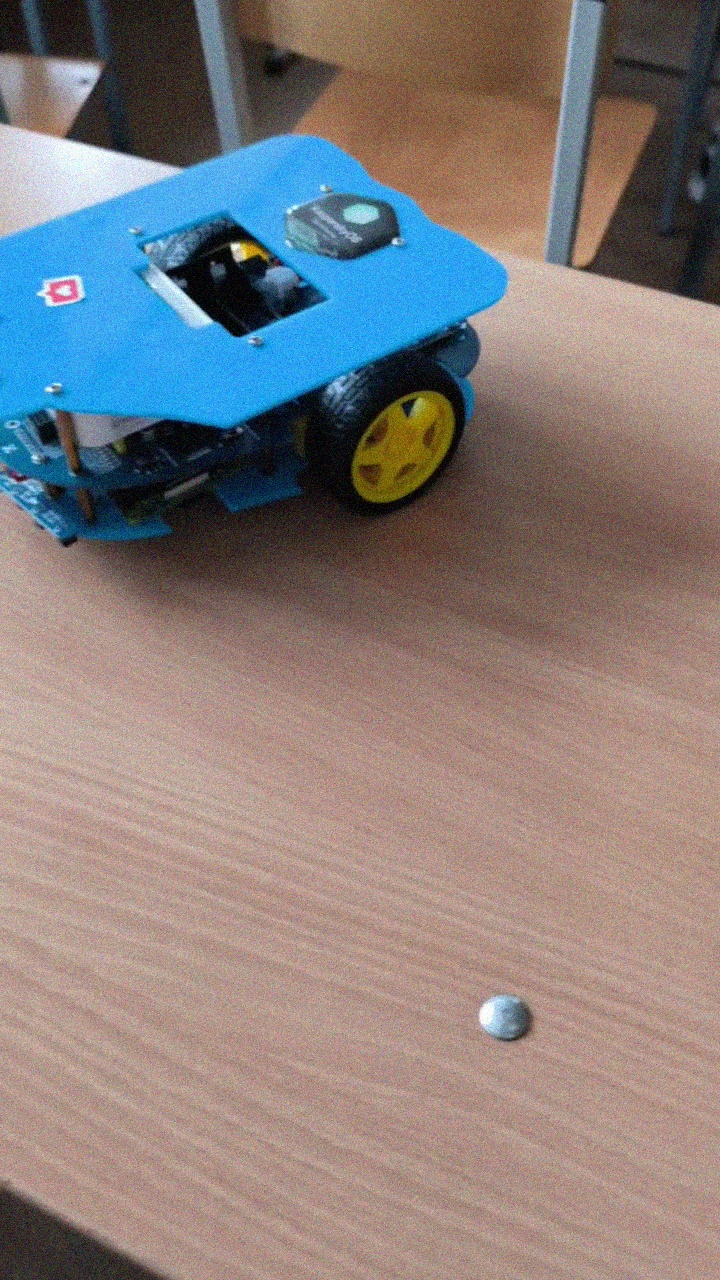robot: (1, 135, 509, 550)
